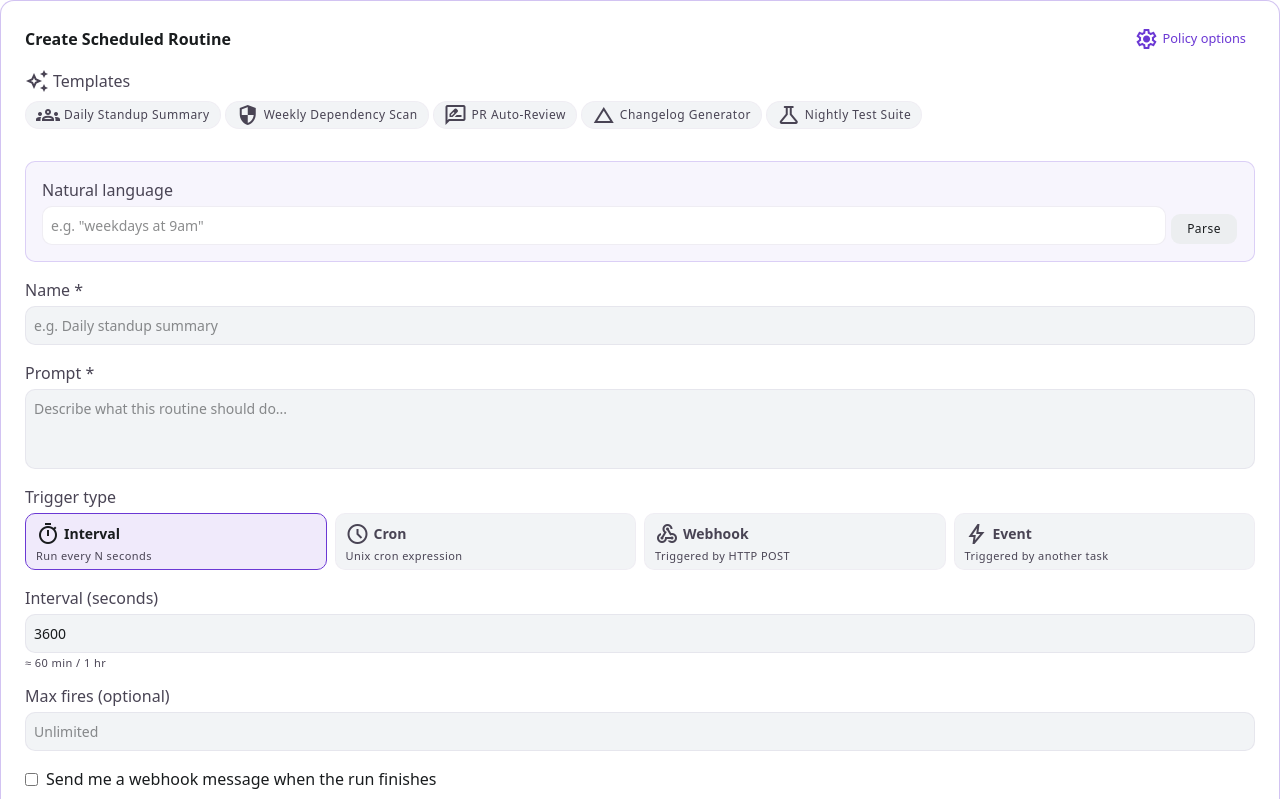
Test: ScheduleForm › shows event info banner when event selected
What coordinates should you click on to do the following:
click the radio button labelled "Event Triggered by another task"
I would click on:
 (1012, 534)
Its box is [954, 513, 1255, 570].
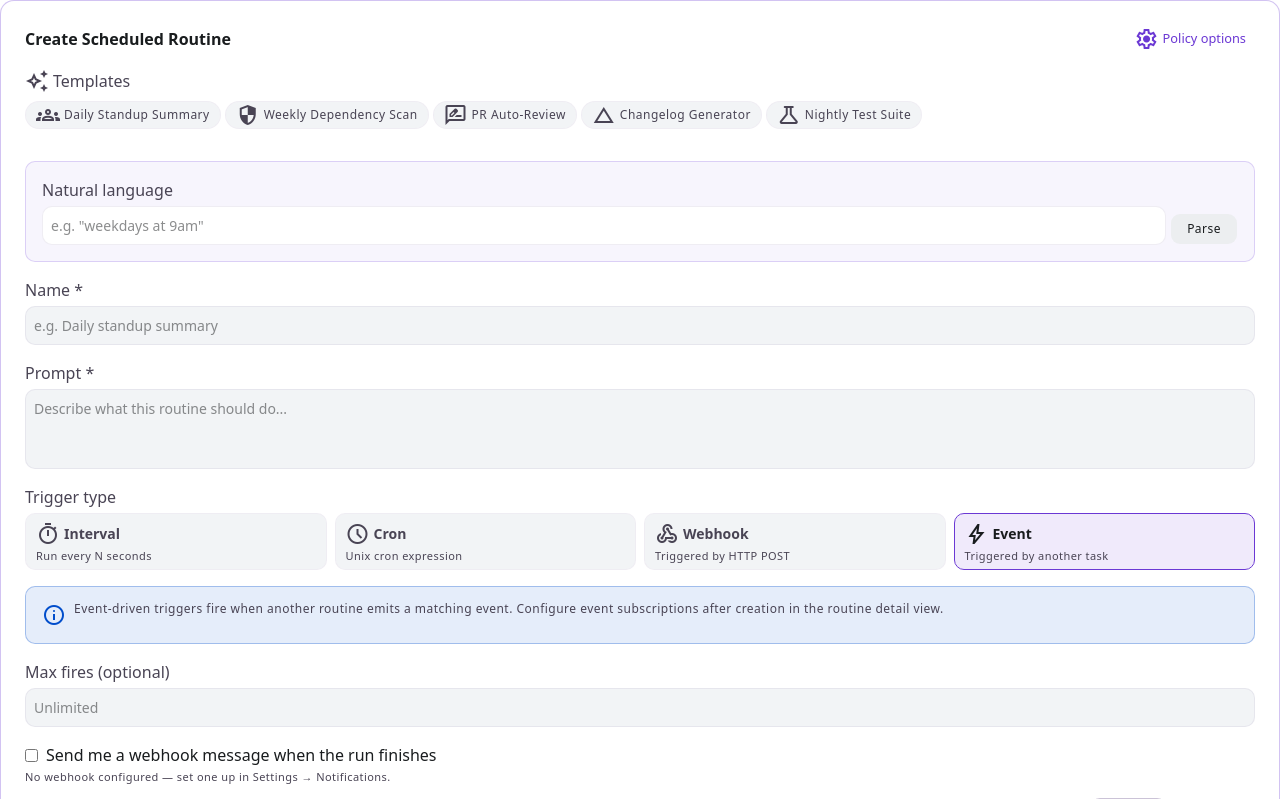
Expected: the text "Event-driven triggers" is shown, [74, 600, 944, 617]
